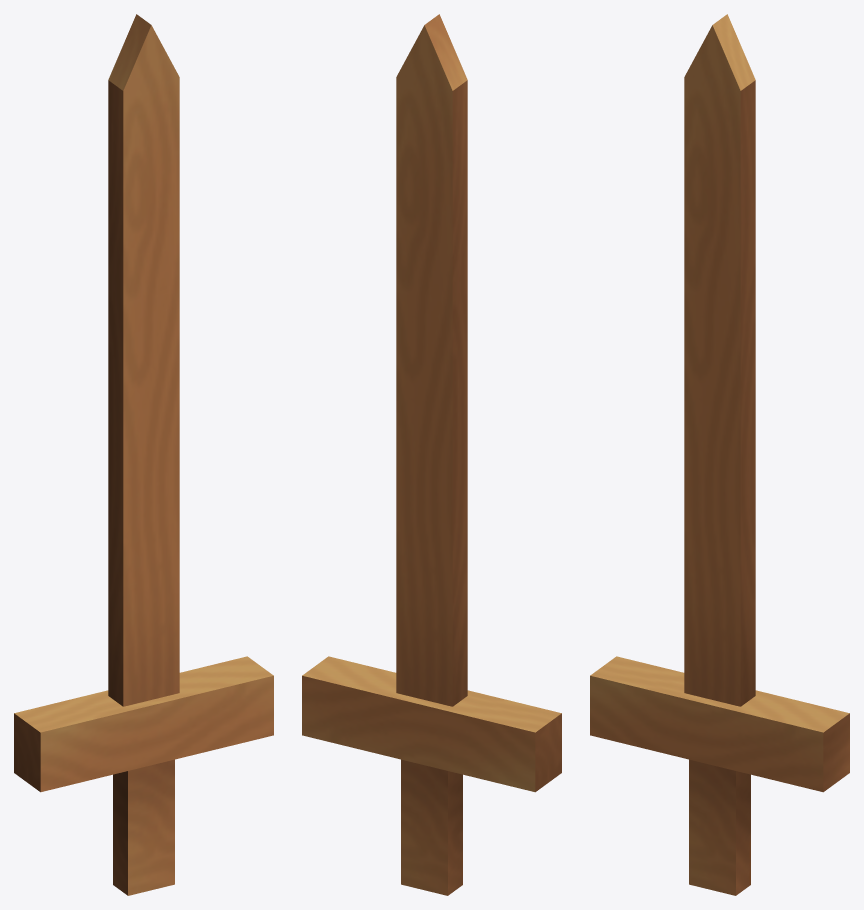
Rendered from woodsword.obj.
The picture shows the model from 3 angles, left to right: view 1: azimuth 30°, elevation 25°; view 2: azimuth 150°, elevation 25°; view 3: azimuth 330°, elevation 25°; orthographic projection.
Parts seen in each view (by area): view 1: Mesh; view 2: Mesh; view 3: Mesh.
Part boxes in pixels (x1,y1,x2,y2): Mesh: (14,14,273,895); Mesh: (302,14,561,895); Mesh: (590,14,849,895).
Size of the model in its own units: 23.8 by 84.35 by 4.67.
Materials: 1 (1 with a texture image).
